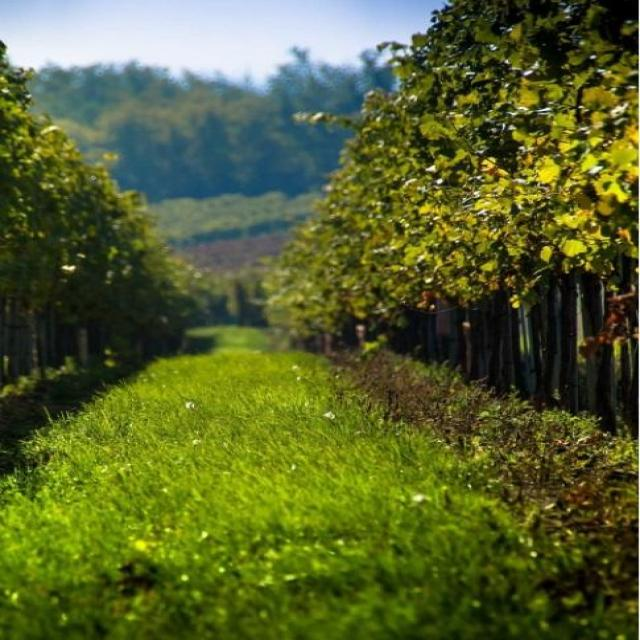row: (2, 325, 640, 640)
